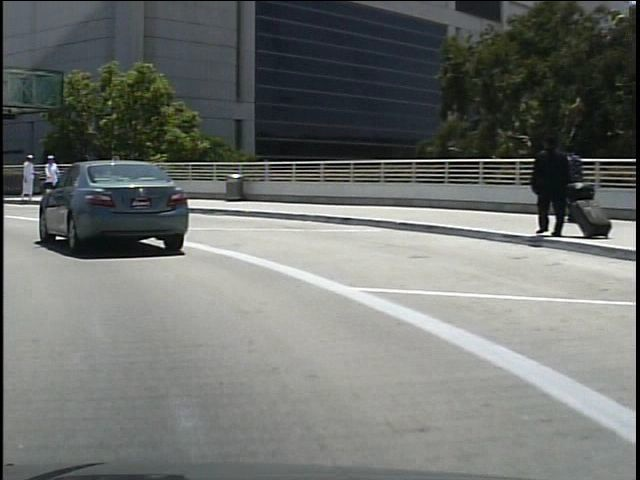person: (522, 137, 565, 238), (554, 143, 587, 231), (16, 150, 34, 204), (39, 153, 58, 189)
